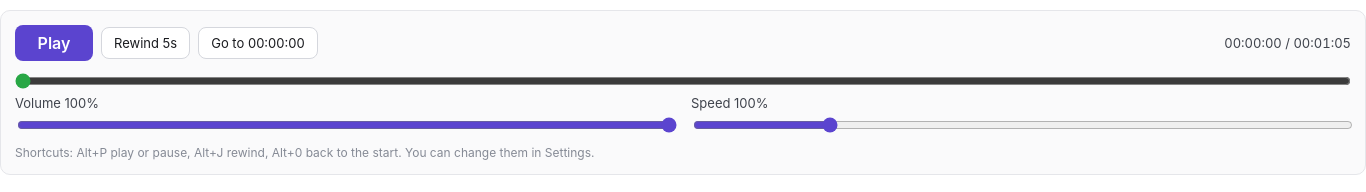
shows controls, the known length, and speed up to 300 percent
Expected: the text "00:00:00 / 00:01:05" is shown, [1224,35,1351,51]
Set the slider labelled "Speed" to "3": x=1345, y=125 [693,117,1353,133]
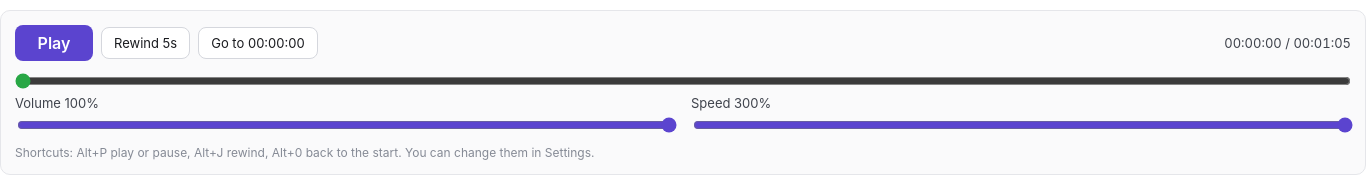
Expected: the slider labelled "Volume" is shown, [17,117,677,133]
Expected: the text "Speed 300%" is shown, [691,95,771,111]
